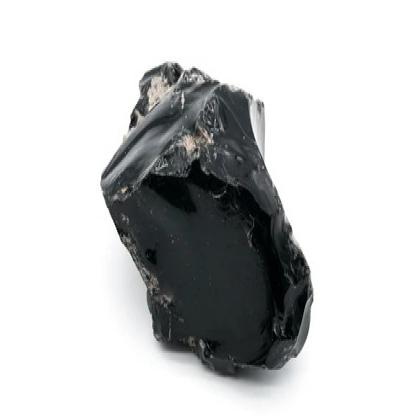Sedimentary_coal: (74, 55, 335, 380)
